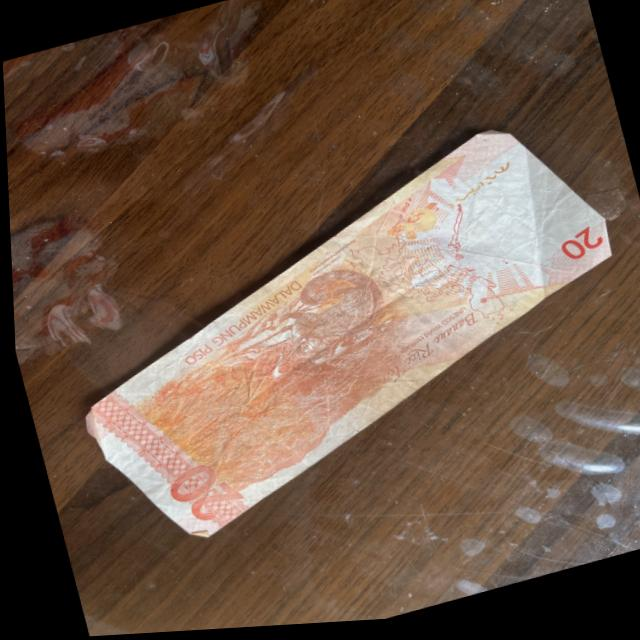20_civet: (270, 267, 385, 369)
20_civet_watermark: (383, 207, 449, 257)
